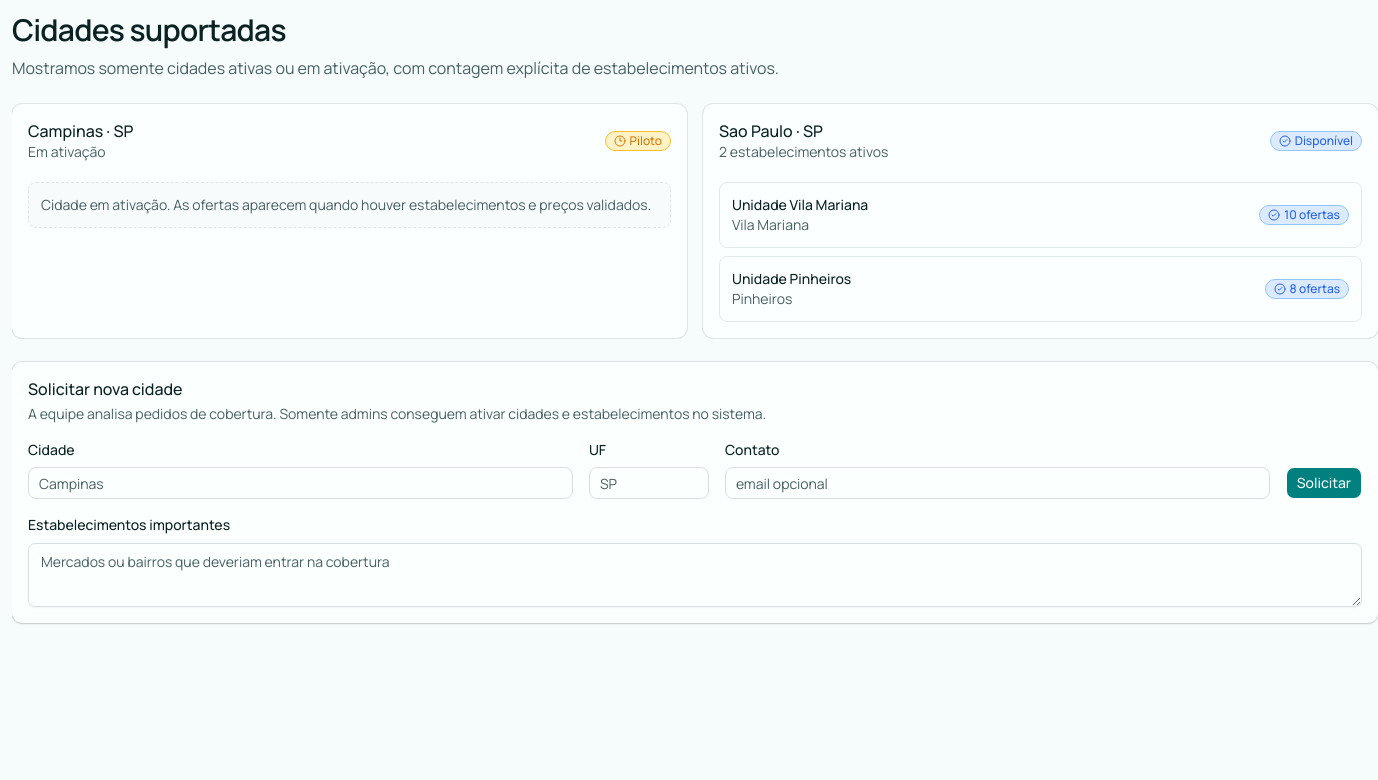
Test: public pages › submits a public city inclusion request
Type "Santos" into the field labelled "Cidade" at (300, 483), box [28,467,573,499]
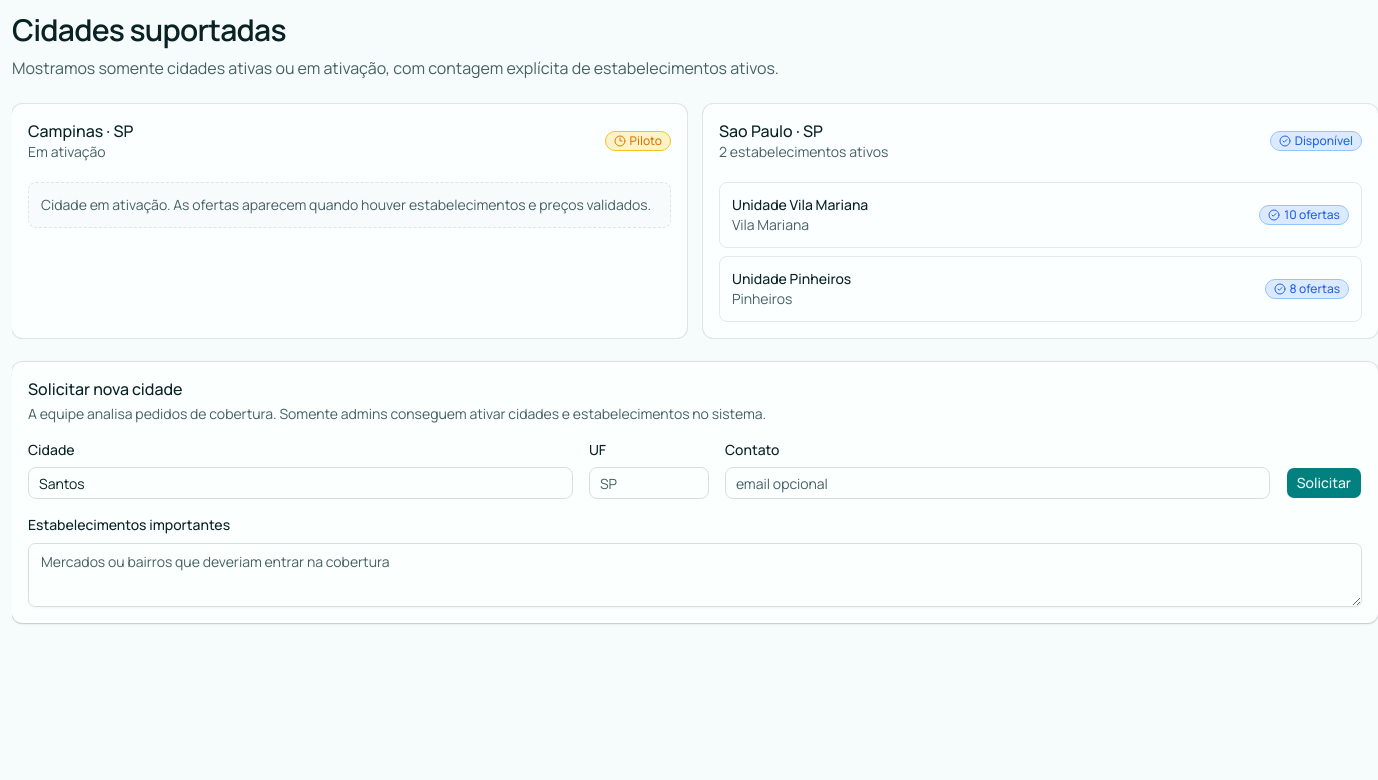
Type "sp" into the field labelled "UF" at (649, 483), box [589,467,709,499]
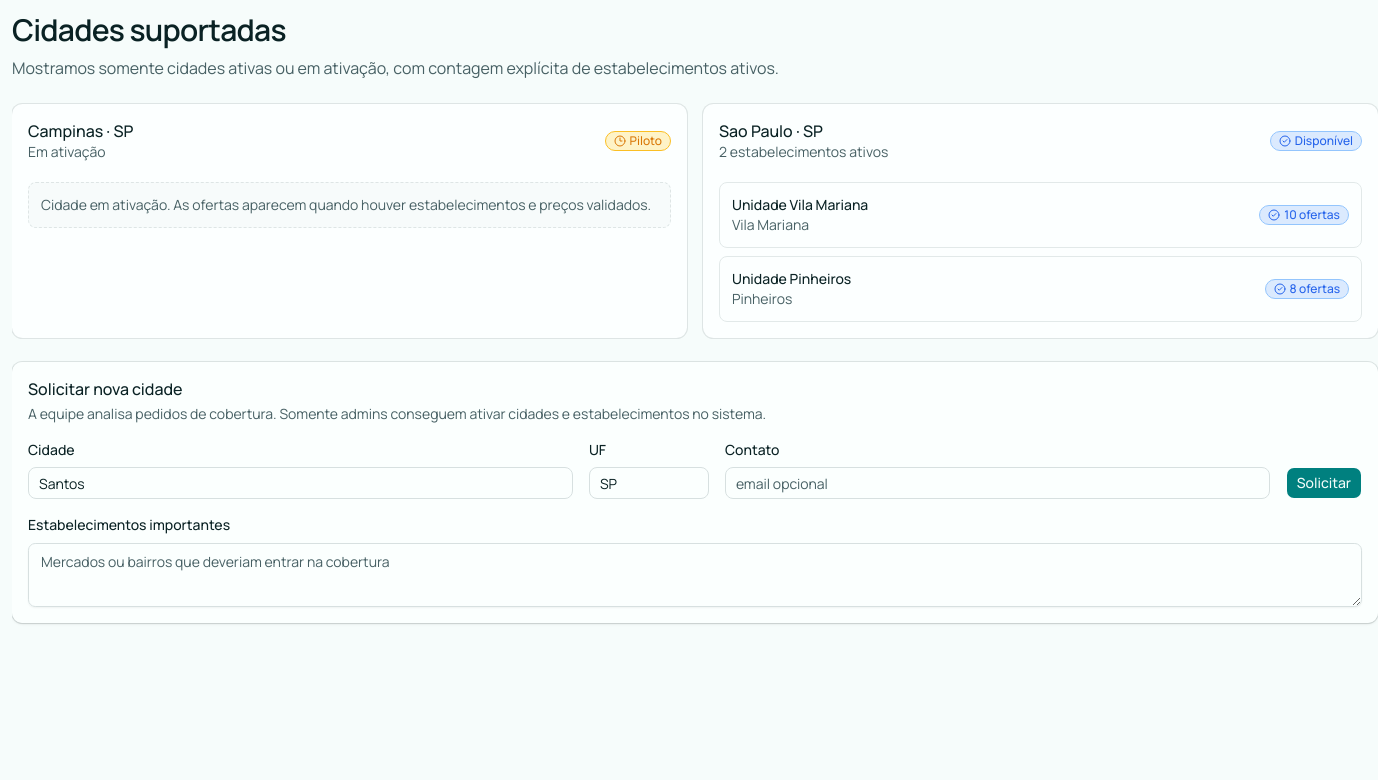
Type "cliente@pricely.local" into the field labelled "Contato" at (997, 483), box [725,467,1270,499]
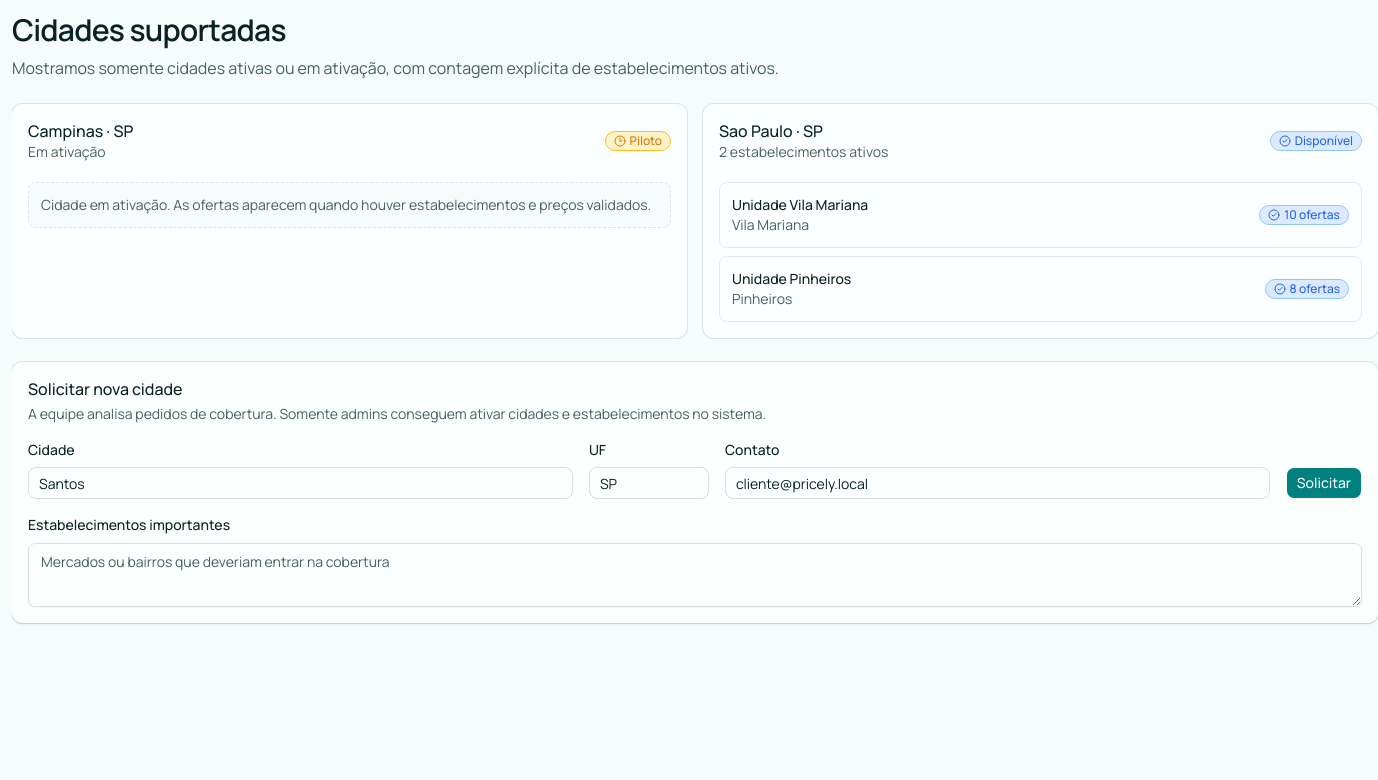
Click the button "Solicitar" at (1324, 483), box [1286,467,1362,499]
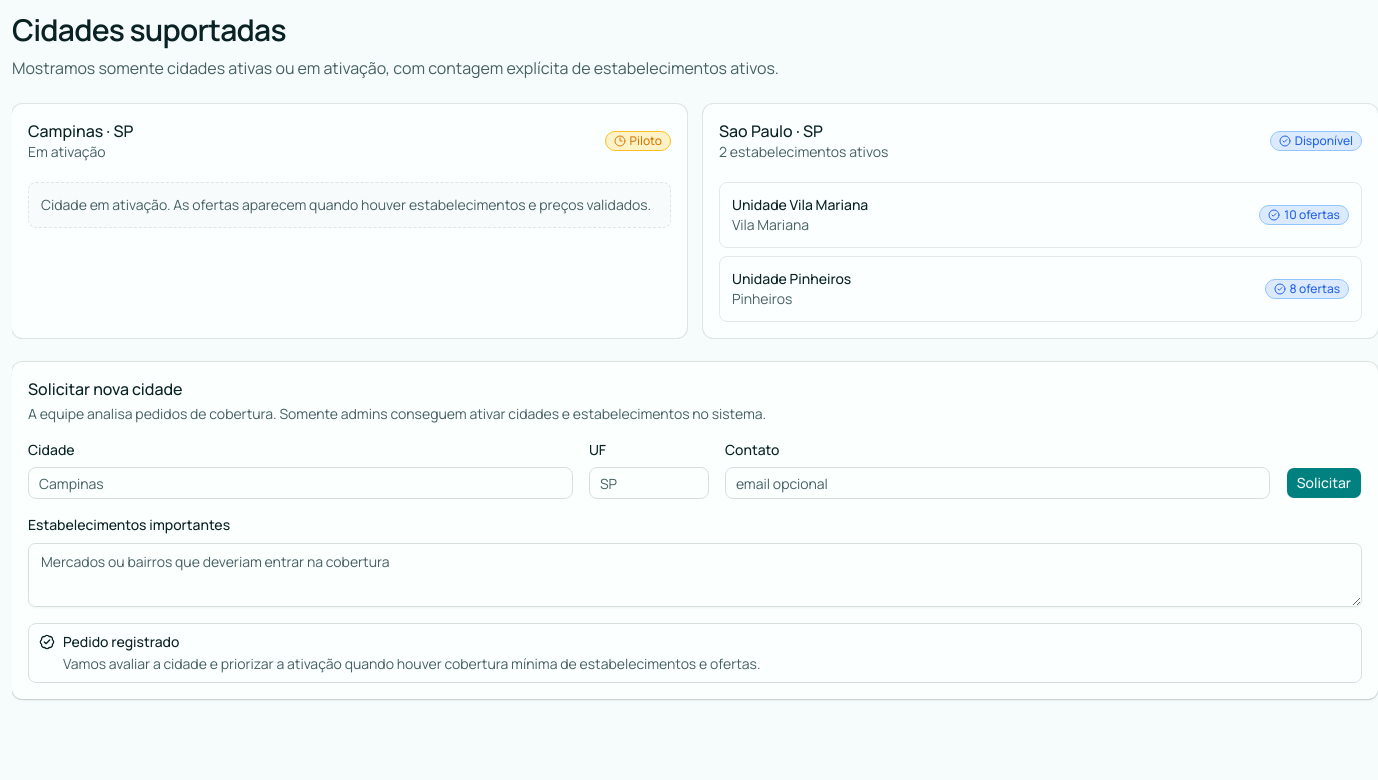
expect the text "Pedido registrado" is shown: met, box [63,632,179,650]
